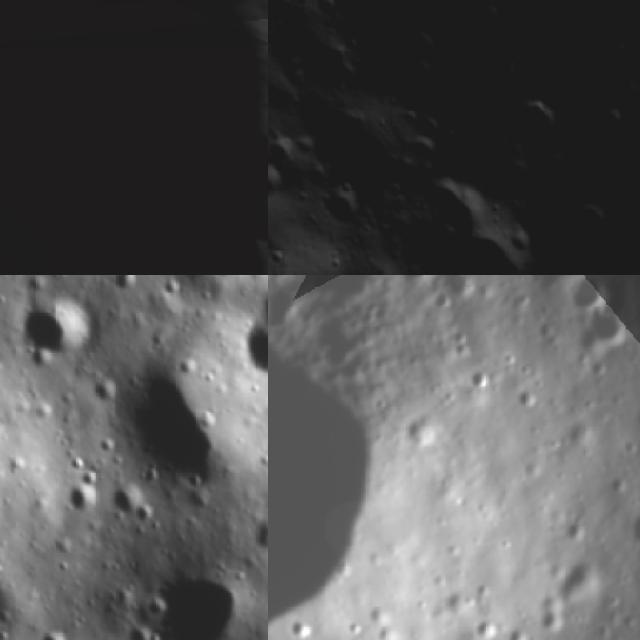crater: (110, 364, 246, 486), (408, 154, 510, 252), (406, 206, 543, 275), (121, 572, 240, 640), (367, 0, 487, 66), (492, 79, 578, 165), (21, 290, 101, 360), (553, 546, 606, 620), (316, 181, 373, 237), (316, 49, 371, 107), (553, 275, 624, 314), (396, 122, 447, 174), (595, 30, 640, 84), (395, 51, 443, 100), (408, 104, 456, 152), (238, 318, 268, 391), (105, 479, 149, 526), (268, 125, 310, 173), (465, 0, 511, 42), (268, 152, 294, 213), (66, 482, 105, 518), (249, 491, 268, 562), (137, 592, 171, 622), (111, 275, 144, 298), (627, 8, 640, 61), (37, 623, 74, 640), (631, 498, 640, 542)
